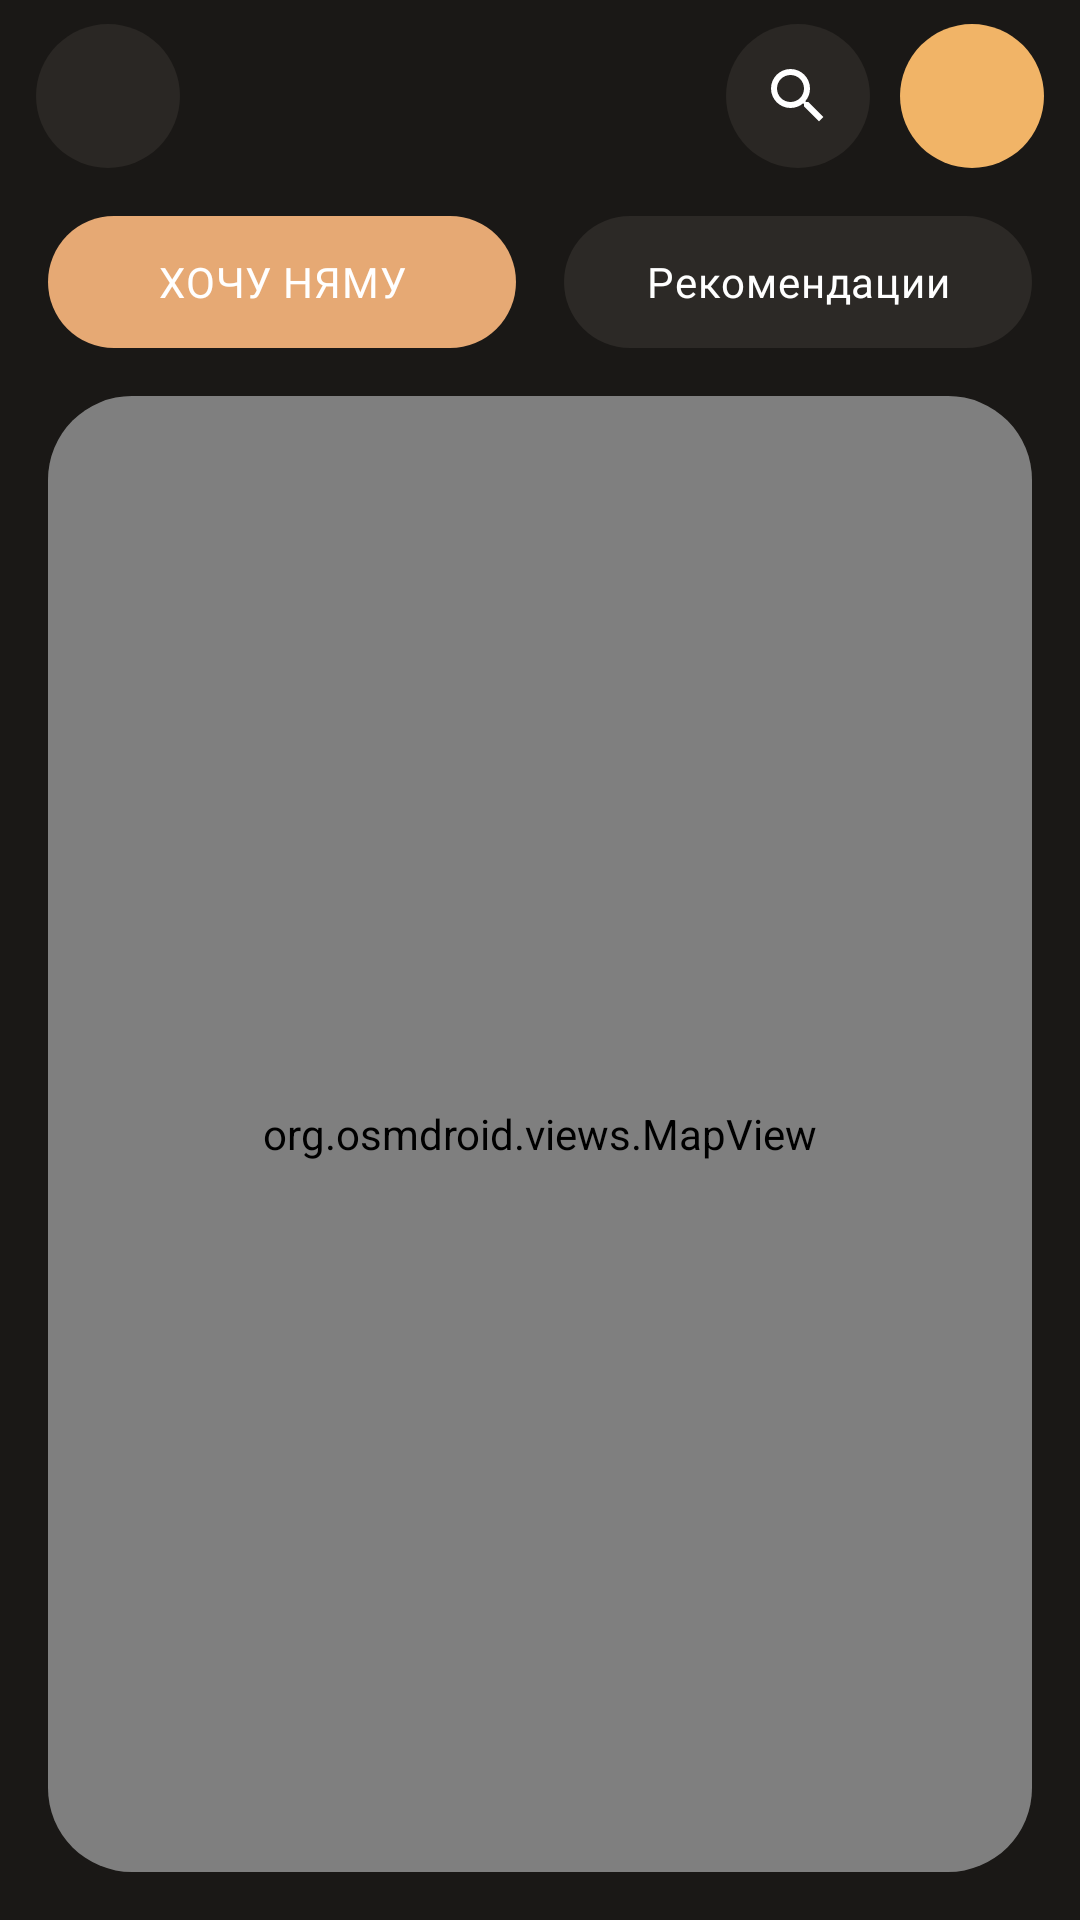

Named icons in this screenshot (1080px×1920px) and their centers, (x,y):
search: (798,96)
